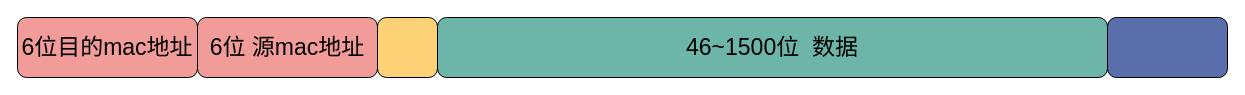
The diagram is 1245 pixels wide and 95 high, and some of its shapes have lost their labels. The box of each missing label's shape, as (x1, y1, x2, y2) in pixels:
2位 类型: (376, 16, 438, 78)
4位 FCS: (1106, 16, 1228, 78)
